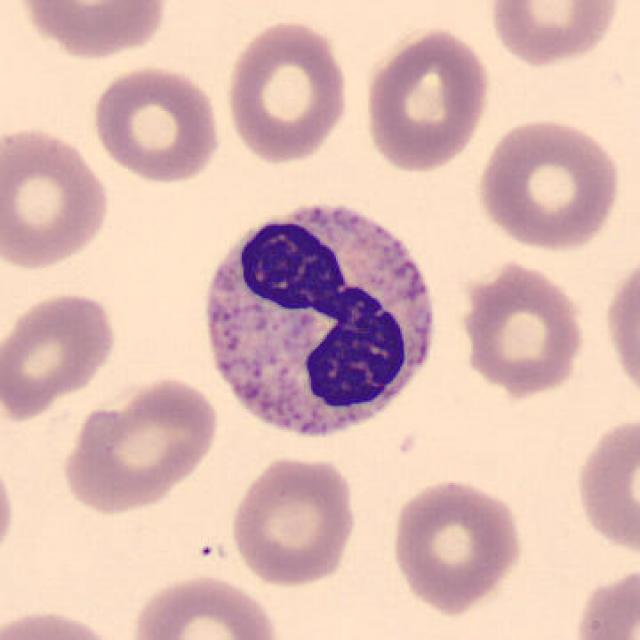Neutrophil: (192, 192, 448, 453)
RBC: (57, 372, 222, 515), (473, 114, 624, 254), (359, 23, 494, 176), (220, 16, 354, 166), (388, 474, 526, 616), (454, 256, 590, 400), (226, 453, 361, 589), (87, 62, 226, 187), (0, 122, 114, 273), (0, 287, 121, 423), (126, 571, 283, 640), (484, 0, 624, 71), (571, 412, 638, 560), (12, 0, 170, 60), (601, 249, 640, 409), (569, 562, 638, 640), (1, 604, 126, 640), (0, 444, 20, 573)
